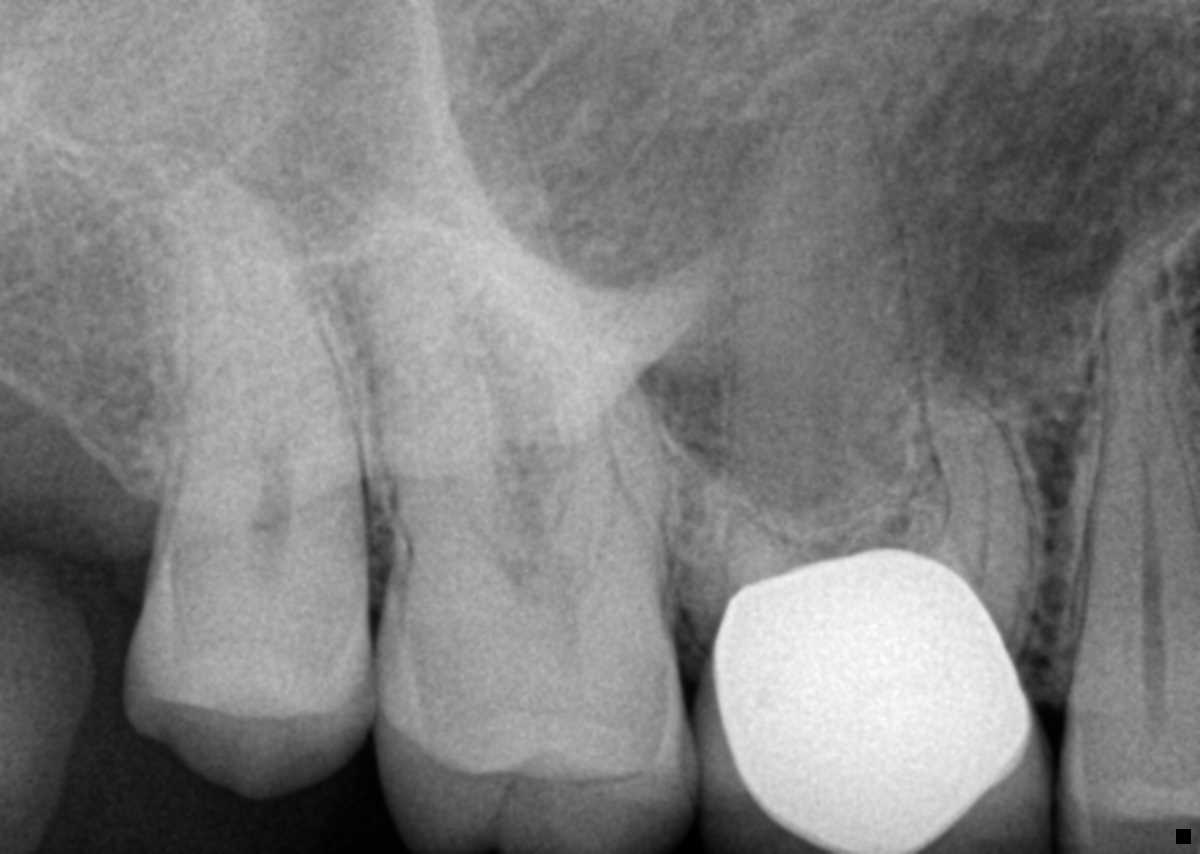Distal Canal: (441, 454, 487, 545)
Distal Root: (370, 283, 540, 553), (606, 397, 786, 618)
Main Canal: (1132, 424, 1169, 664), (252, 443, 296, 531)
Main Root: (166, 164, 366, 539), (1067, 264, 1200, 666)
Mesial Canal: (963, 431, 992, 602)
Mesial Root: (550, 333, 671, 581), (923, 388, 1031, 632)
Palatal Canal: (808, 98, 846, 553)
Palatal Root: (384, 19, 661, 555), (720, 86, 972, 600)
